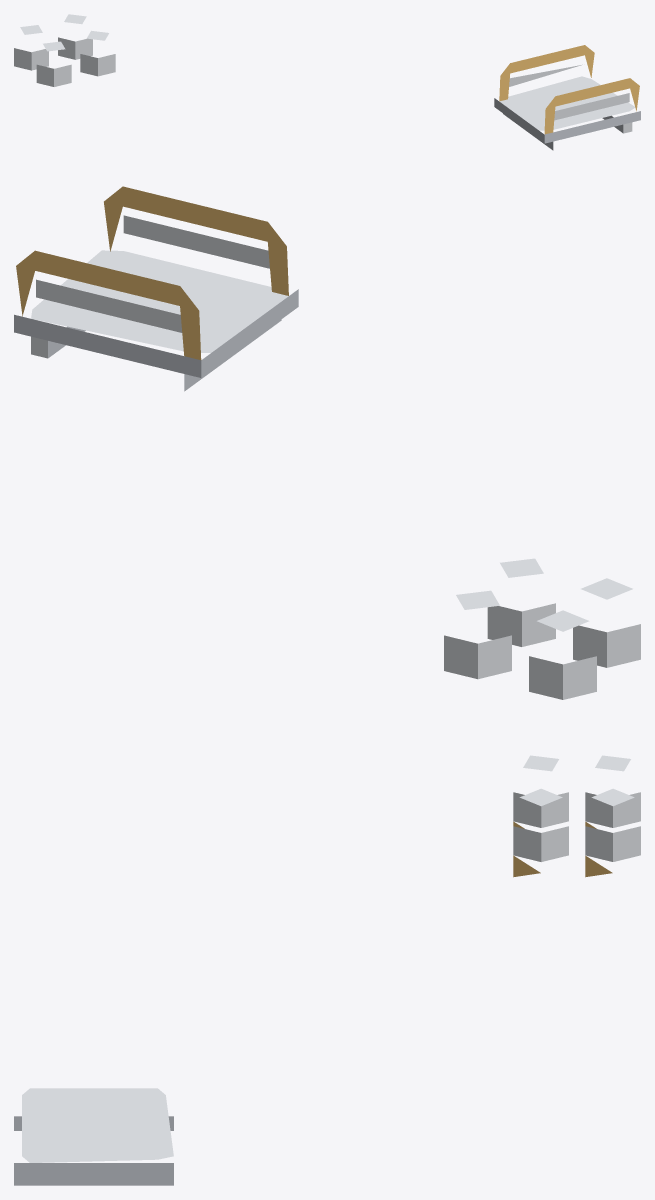
The model's file is barrels_rail_lod1.glb.
3 views of the same model, one above another, from view 1: azimuth 30°, elevation 25°; view 2: azimuth 150°, elevation 25°; view 3: azimuth 270°, elevation 25° (orthographic). The views are drawn at different scales.
Parts seen in each view (by area): view 1: barrels_rail.002, barrel.017, barrel.018, barrel.019, barrel.020; view 2: barrels_rail.002, barrel.019, barrel.020, barrel.018, barrel.017; view 3: barrels_rail.002, barrel.017, barrel.020, barrel.018, barrel.019.
Part boxes in pixels (<box>): barrels_rail.002: <box>494,45,640,150</box>; barrel.017: <box>80,30,115,76</box>; barrel.018: <box>36,41,71,86</box>; barrel.019: <box>14,25,48,70</box>; barrel.020: <box>58,14,92,59</box>; barrels_rail.002: <box>14,186,298,391</box>; barrel.019: <box>529,610,596,699</box>; barrel.020: <box>444,590,511,679</box>; barrel.018: <box>573,578,640,667</box>; barrel.017: <box>487,558,555,646</box>; barrels_rail.002: <box>14,1088,173,1185</box>; barrel.017: <box>513,788,568,877</box>; barrel.020: <box>585,788,640,877</box>; barrel.018: <box>513,755,568,828</box>; barrel.019: <box>585,755,640,828</box>.
Size of the model in its own units: 2.5 by 0.35 by 1.95.
